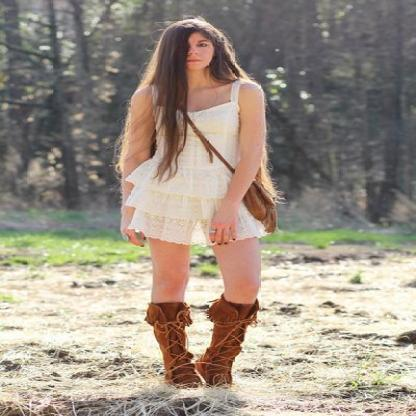bag: (242, 181, 292, 232)
dress: (122, 96, 268, 246)
shoe: (145, 294, 270, 388)
